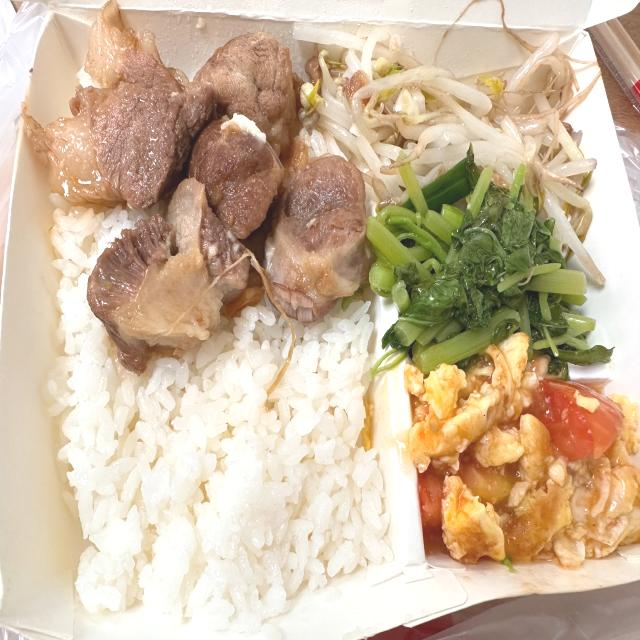Fushan-lettuce: (394, 182, 625, 359)
Scramble Egg with Tomatoes: (417, 381, 640, 584)
meat: (84, 27, 352, 320)
rice: (72, 362, 382, 598)
